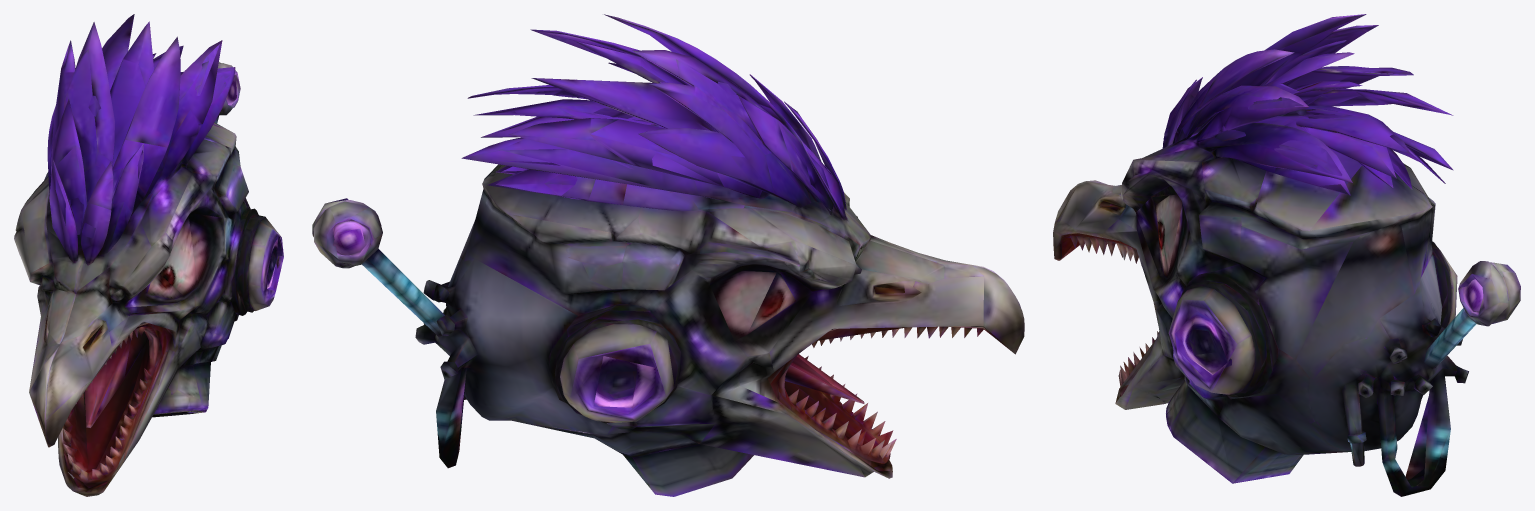
Rendered from nostrich01_head_psychotic_rage.glb.
The picture shows the model from 3 angles, left to right: view 1: azimuth 30°, elevation 25°; view 2: azimuth 150°, elevation 25°; view 3: azimuth 270°, elevation 25°; orthographic projection. The views are drawn at different scales.
Visible parts, largest first — view 1: material; view 2: material; view 3: material.
Boxes of the visible parts, x1,y1,x2,y2 form: material: (14,14,283,496); material: (312,14,1024,496); material: (1053,14,1520,496).
Size of the model in its own units: 0.854 by 0.8211 by 0.768.
1 material, 1 textured.
